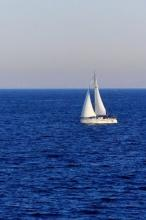fanchuan: (78, 71, 121, 126)
